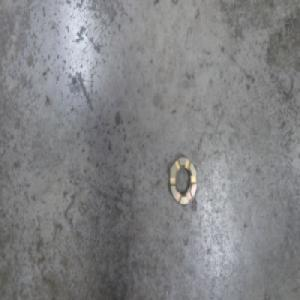Nut: (168, 152, 197, 207)
